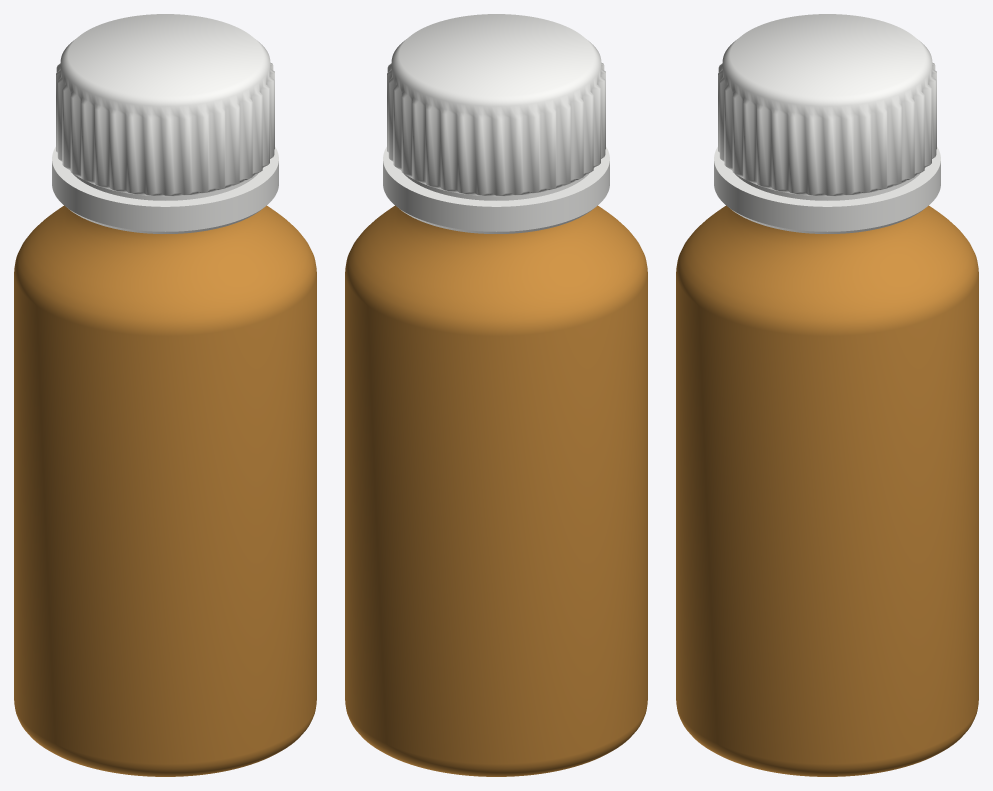
Rendered from amber_bottle_030ml.glb.
3 views of the same model, side by side, from view 1: azimuth 30°, elevation 25°; view 2: azimuth 150°, elevation 25°; view 3: azimuth 270°, elevation 25° (orthographic).
Parts seen in each view (by area): view 1: Bottle_030ml, Cap_030ml_PP20; view 2: Bottle_030ml, Cap_030ml_PP20; view 3: Bottle_030ml, Cap_030ml_PP20.
Boxes of the visible parts, left/top/right/bottom form: Bottle_030ml: left=14, top=205, right=316, bottom=776; Cap_030ml_PP20: left=52, top=14, right=278, bottom=233; Bottle_030ml: left=345, top=205, right=647, bottom=776; Cap_030ml_PP20: left=383, top=14, right=609, bottom=233; Bottle_030ml: left=676, top=205, right=978, bottom=776; Cap_030ml_PP20: left=714, top=14, right=940, bottom=233.
Bounding box in the file's own units: 0.0317 × 0.077 × 0.0317.
